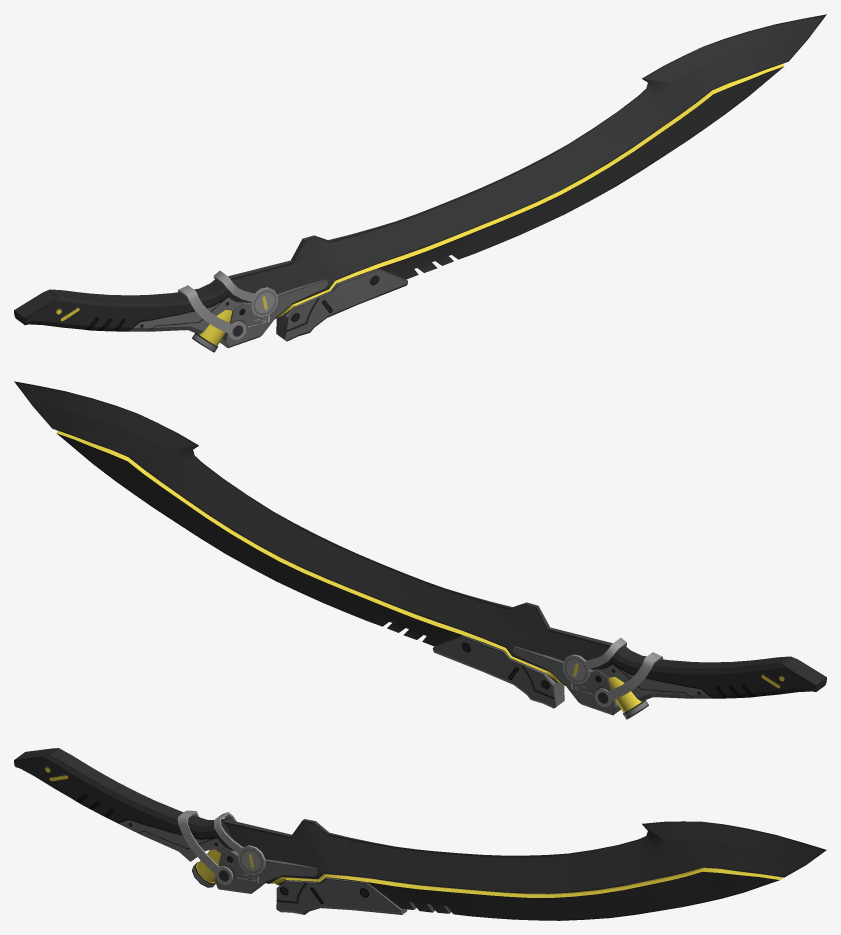
File: E2DaggerMd040011 #38036.fbx
3 views of the same model, one above another, from view 1: azimuth 30°, elevation 25°; view 2: azimuth 150°, elevation 25°; view 3: azimuth 330°, elevation 25° (orthographic).
Parts seen in each view (by area): view 1: E2DaggerMd0400111, E2DaggerMd0400113, E2DaggerMd0400112; view 2: E2DaggerMd0400111, E2DaggerMd0400113, E2DaggerMd0400112; view 3: E2DaggerMd0400111, E2DaggerMd0400113, E2DaggerMd0400112.
Part boxes in pixels (x1,y1,x2,y2): E2DaggerMd0400111: (14, 14, 826, 347); E2DaggerMd0400113: (198, 64, 784, 345); E2DaggerMd0400112: (178, 270, 277, 352); E2DaggerMd0400111: (14, 381, 826, 715); E2DaggerMd0400113: (56, 431, 642, 712); E2DaggerMd0400112: (562, 637, 663, 719); E2DaggerMd0400111: (14, 748, 826, 920); E2DaggerMd0400113: (196, 849, 783, 897); E2DaggerMd0400112: (177, 810, 265, 887).
Size of the model in its own units: 0.6051 by 0.1398 by 0.0179.
3 materials, 3 textured.
